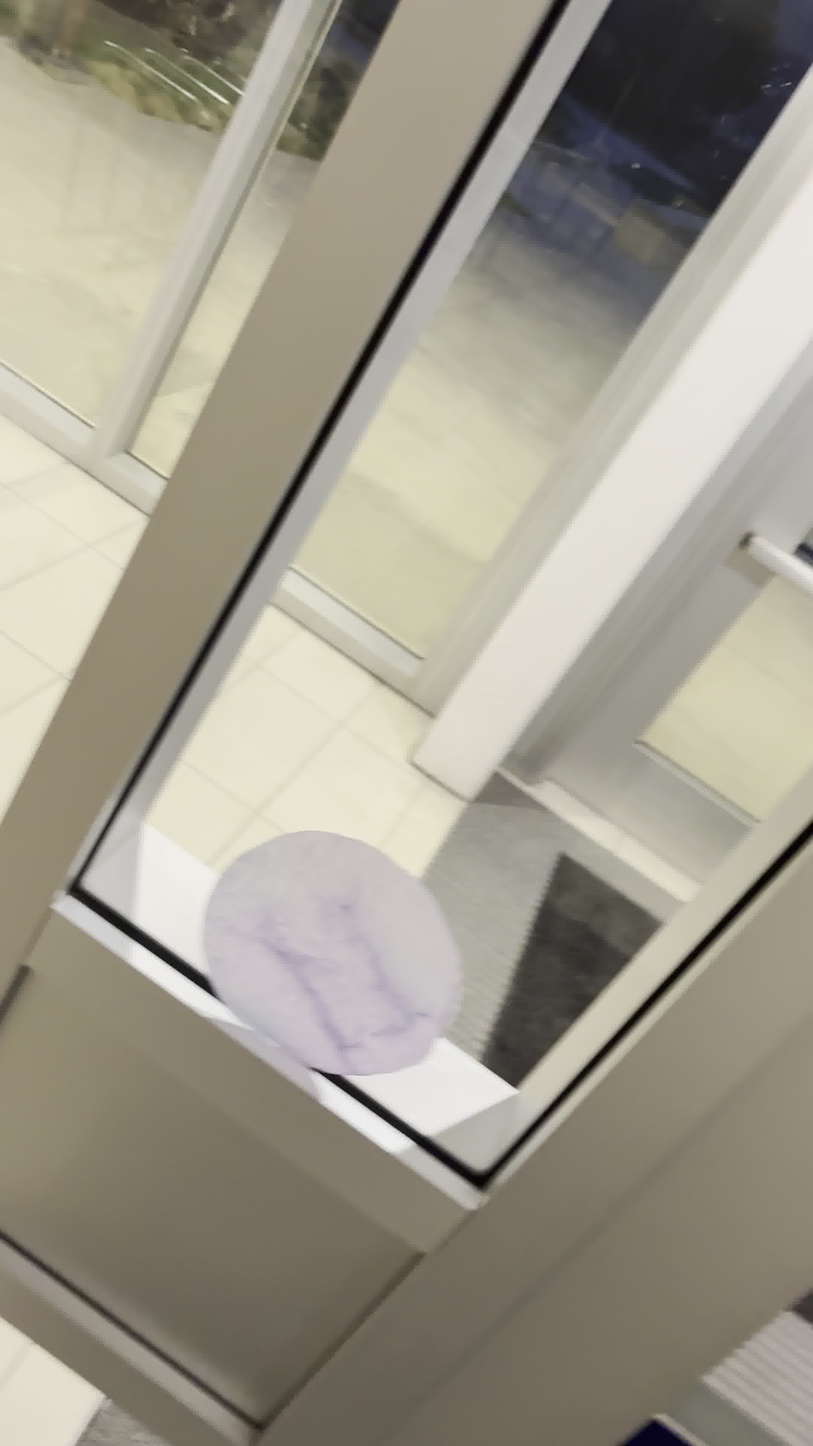Target: (199, 827, 474, 1080)
